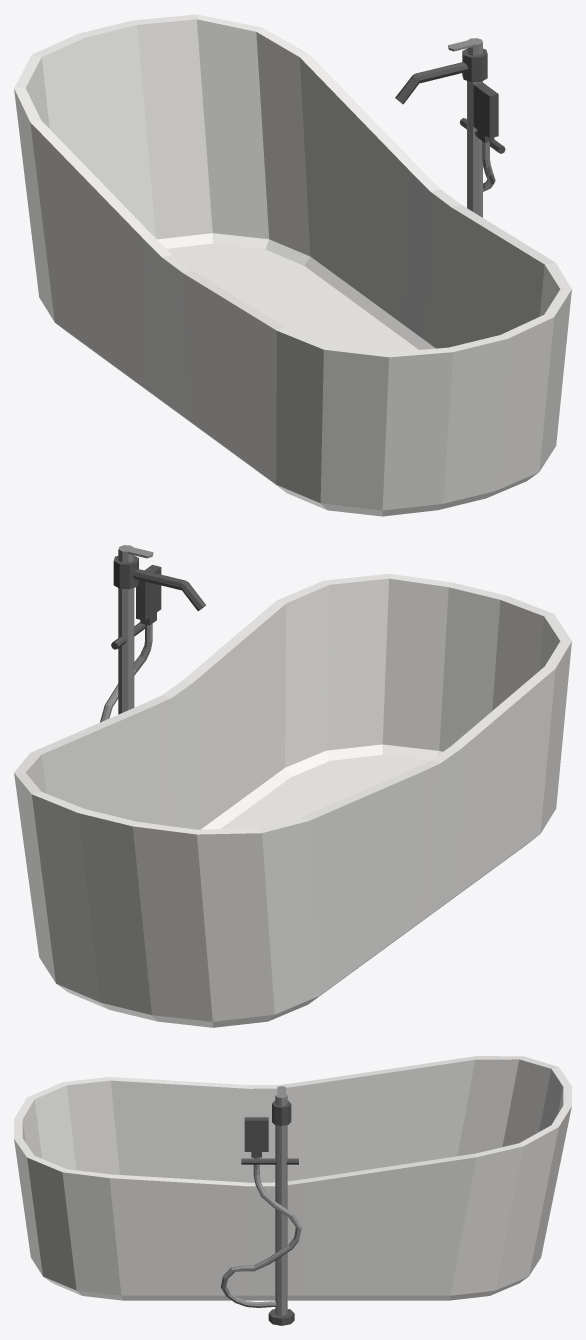
Rendered from Bath_1.fbx.
The picture shows the model from 3 angles, top to bottom: view 1: azimuth 30°, elevation 25°; view 2: azimuth 150°, elevation 25°; view 3: azimuth 270°, elevation 25°; orthographic projection. The views are drawn at different scales.
Visible parts, largest first — view 1: Bath_1; view 2: Bath_1; view 3: Bath_1.
Boxes of the visible parts, x1=… form: Bath_1: x1=14, y1=14, x2=571, y2=516; Bath_1: x1=14, y1=545, x2=571, y2=1027; Bath_1: x1=14, y1=1056, x2=571, y2=1325.
Size of the model in its own units: 108 by 213 by 94.67.
